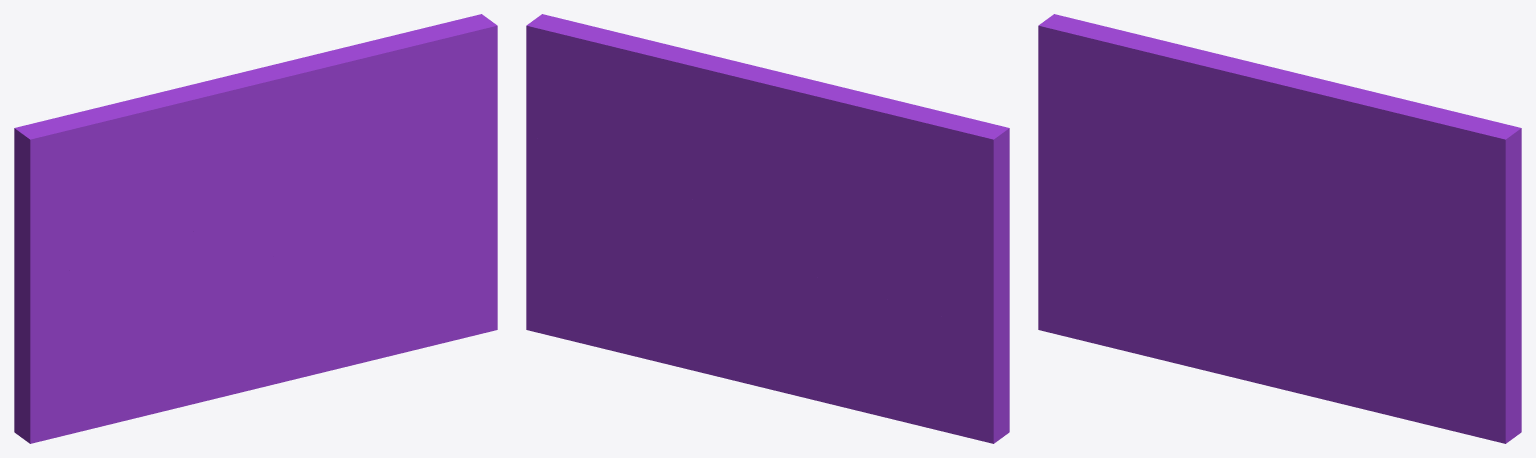
File: Barrier_93_chunks.fbx
3 views of the same model, side by side, from view 1: azimuth 30°, elevation 25°; view 2: azimuth 150°, elevation 25°; view 3: azimuth 330°, elevation 25° (orthographic).
Visible parts, largest first — view 1: Barrier_93_2, Barrier_93_1, Barrier_93_0, Barrier_93_6, Barrier_93_4, Barrier_93_3, Barrier_93_5; view 2: Barrier_93_0, Barrier_93_1, Barrier_93_2, Barrier_93_3, Barrier_93_5, Barrier_93_4, Barrier_93_6; view 3: Barrier_93_1, Barrier_93_2, Barrier_93_0, Barrier_93_4, Barrier_93_6, Barrier_93_3, Barrier_93_5.
Boxes of the visible parts, x1,y1,x2,y2 form: Barrier_93_2: (14, 217, 274, 443); Barrier_93_1: (258, 150, 497, 388); Barrier_93_0: (14, 82, 239, 320); Barrier_93_6: (189, 58, 367, 157); Barrier_93_4: (327, 74, 497, 217); Barrier_93_3: (297, 14, 497, 125); Barrier_93_5: (199, 123, 336, 238); Barrier_93_0: (749, 89, 1009, 332); Barrier_93_1: (526, 134, 790, 393); Barrier_93_2: (775, 265, 1009, 443); Barrier_93_3: (526, 14, 711, 153); Barrier_93_5: (672, 93, 804, 221); Barrier_93_4: (526, 96, 678, 193); Barrier_93_6: (677, 47, 849, 117); Barrier_93_1: (1266, 236, 1521, 443); Barrier_93_2: (1038, 168, 1283, 385); Barrier_93_0: (1038, 14, 1247, 205); Barrier_93_4: (1335, 176, 1521, 264); Barrier_93_6: (1197, 60, 1375, 193); Barrier_93_3: (1337, 83, 1521, 198); Barrier_93_5: (1207, 92, 1344, 248).
Bounding box in the file's own units: 462 × 288 × 27.2.
